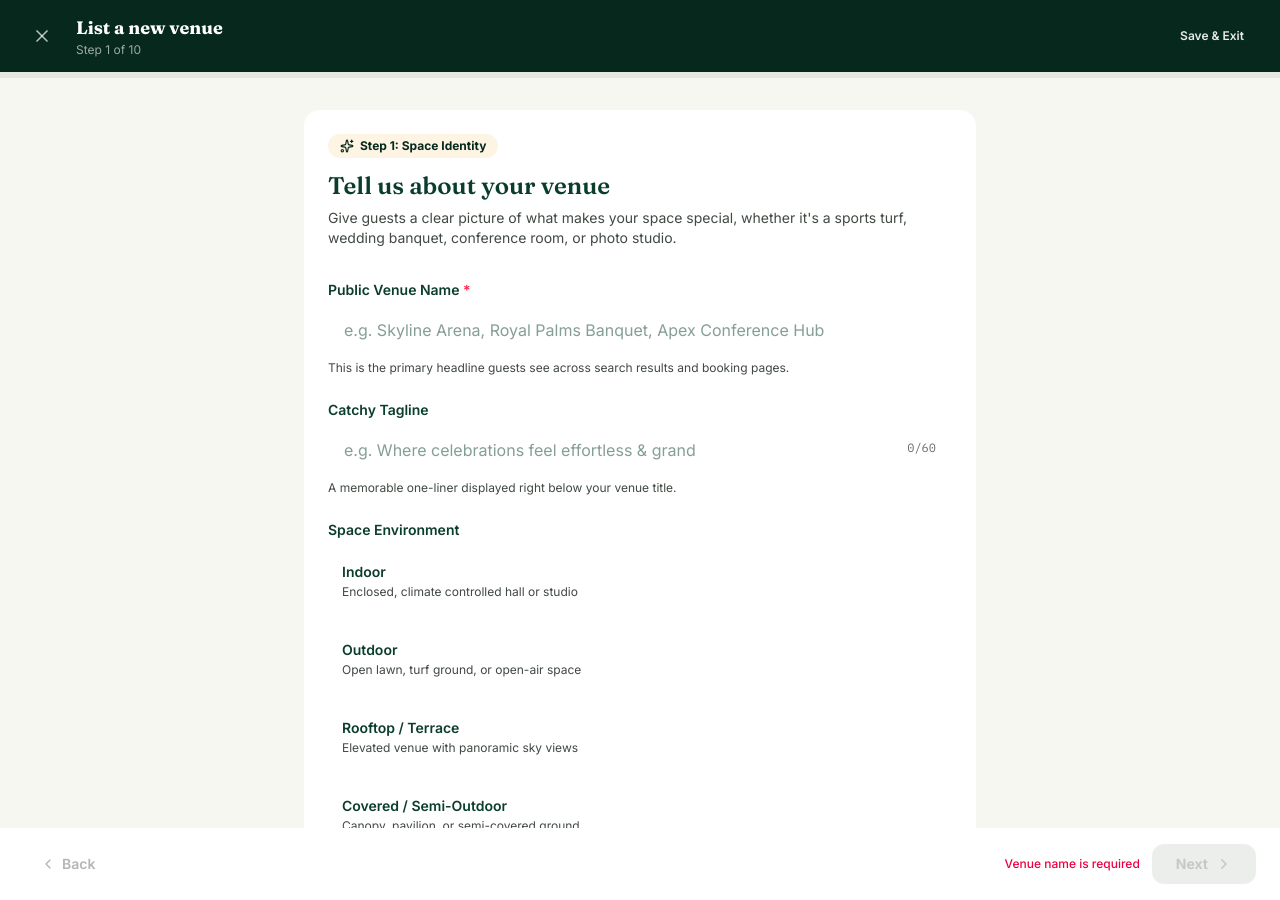
Test: ListingBuilder 3-photo rule and toast integration › shows real server ApiError message in a toast instead of window.alert on draft creation failure
fill required name
In the field with placeholder "Skyline Arena": point(640, 330) left=328, top=306, right=952, bottom=354, type "Test Arena"
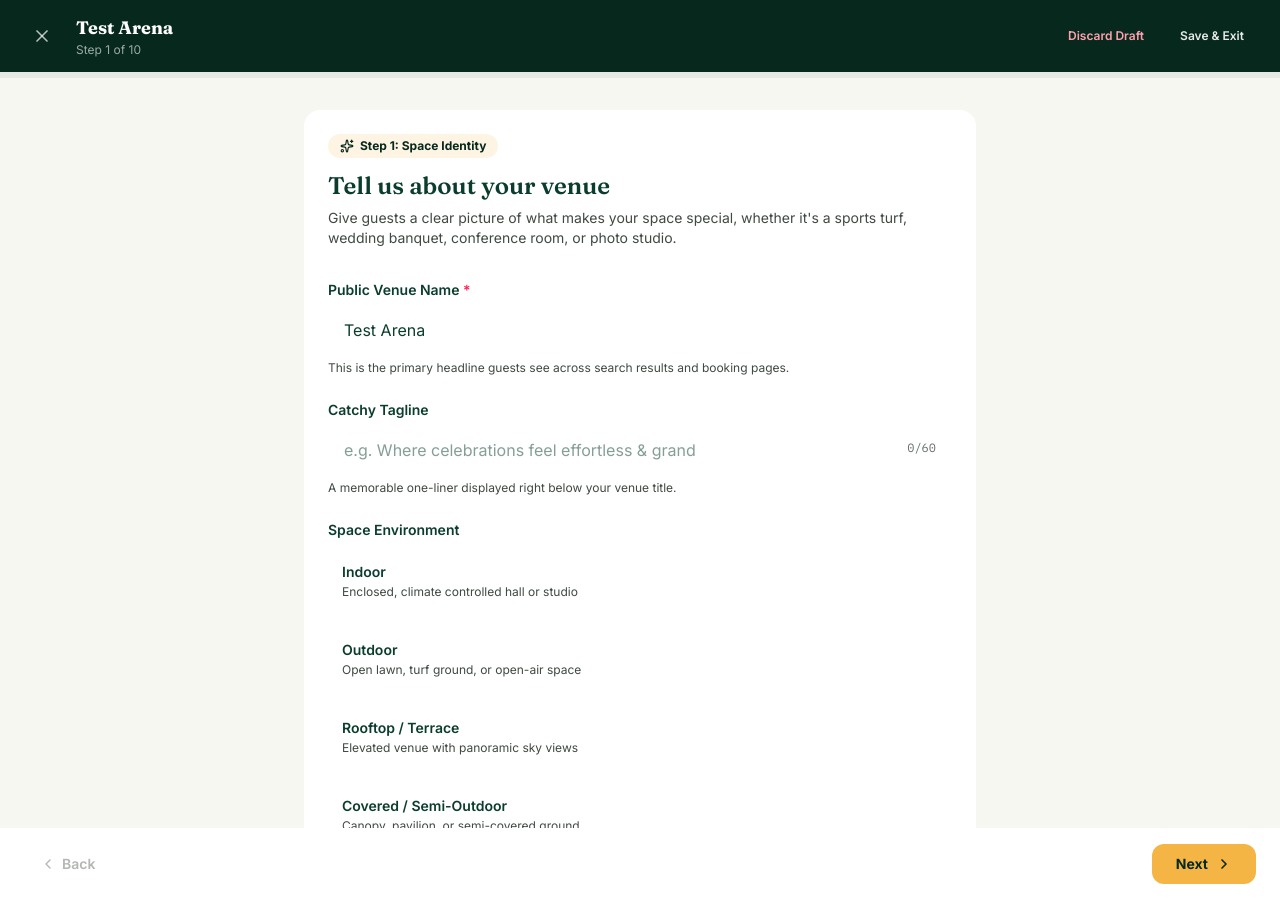
Click the button "Next": point(1204, 864) left=1152, top=844, right=1256, bottom=884
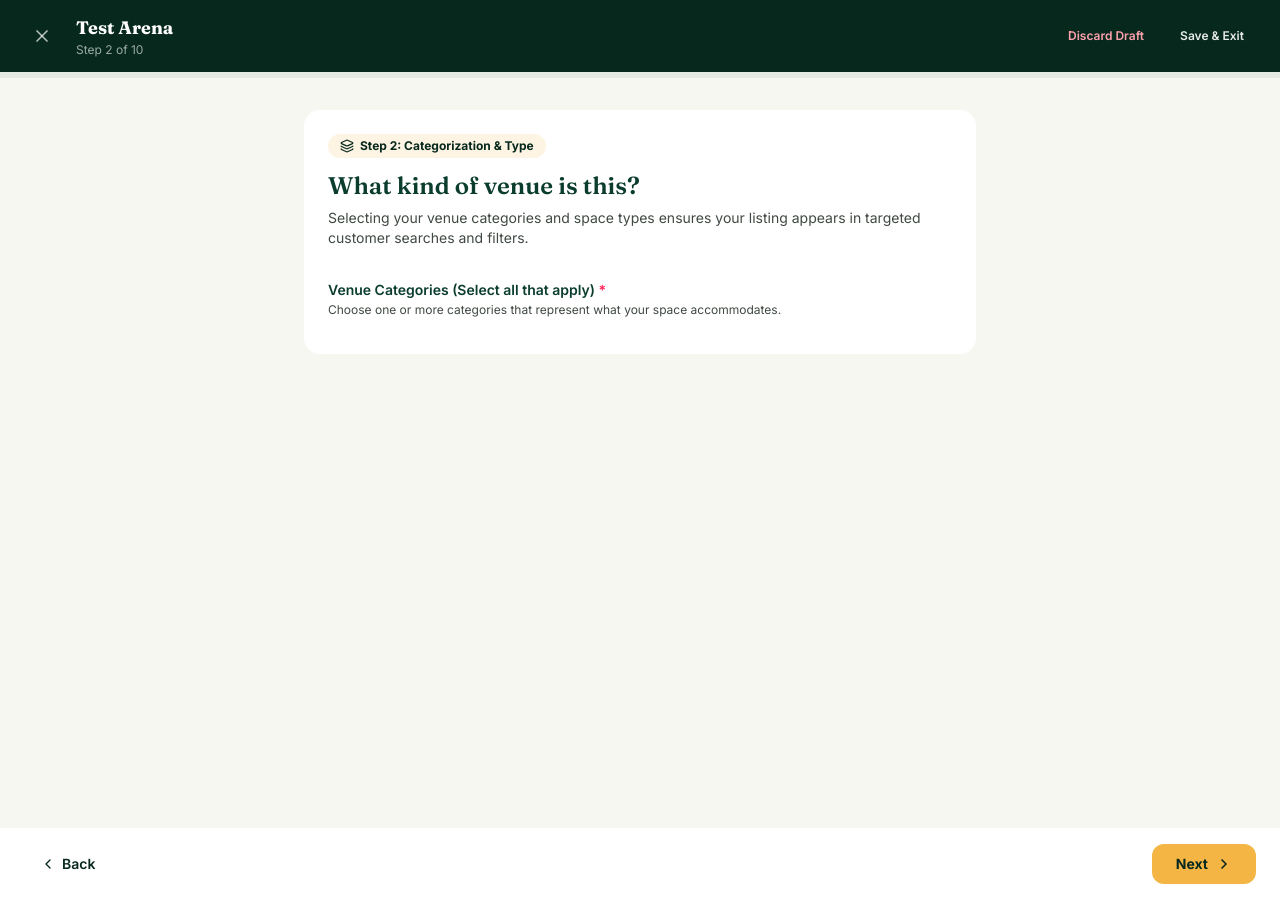
Check: the heading "What kind of venue is this?" is shown, box left=328, top=171, right=640, bottom=200
Click the button "Next": point(1204, 864) left=1152, top=844, right=1256, bottom=884
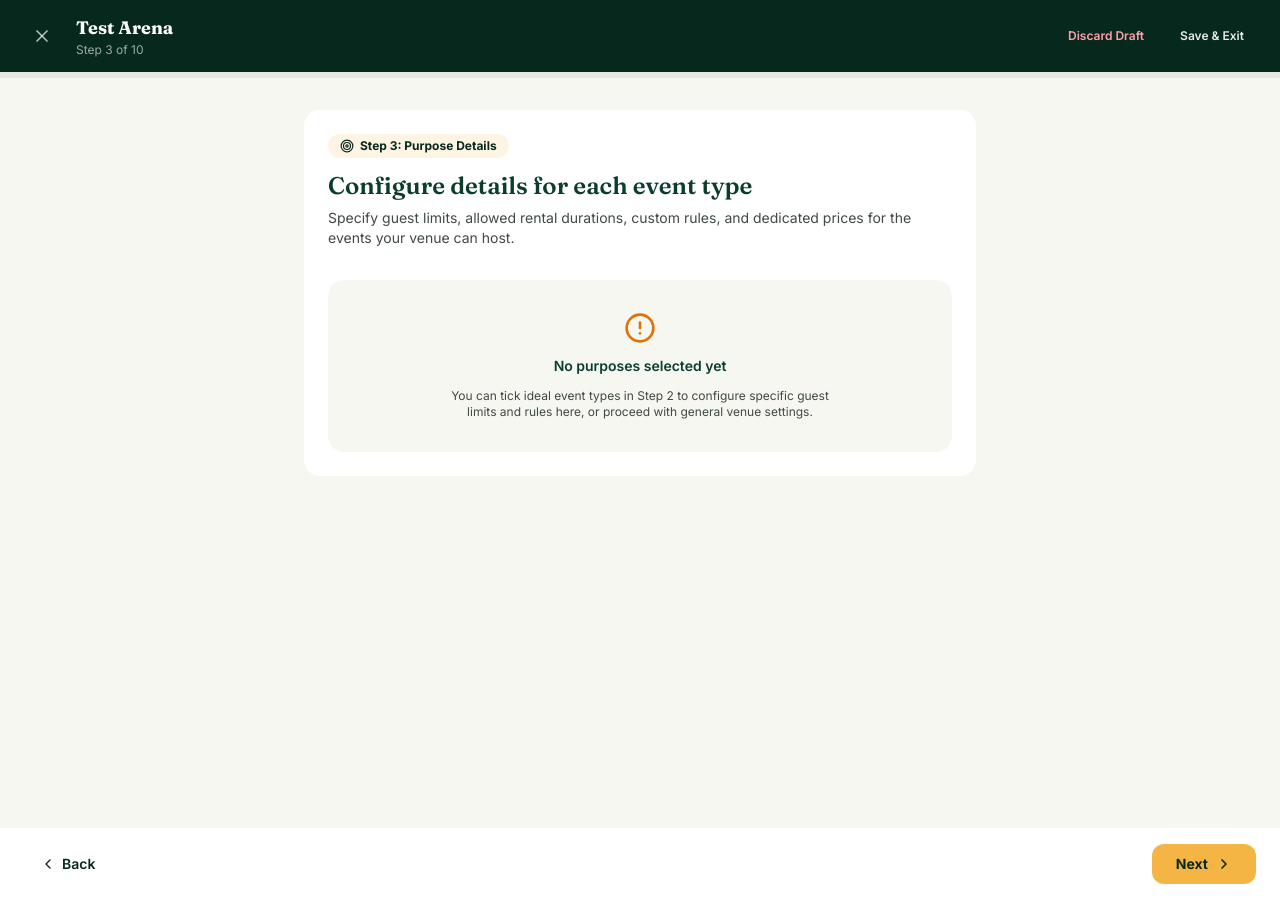
Check: the heading "Configure details for each event type" is shown, box left=328, top=171, right=752, bottom=200
Click the button "Next": point(1204, 864) left=1152, top=844, right=1256, bottom=884
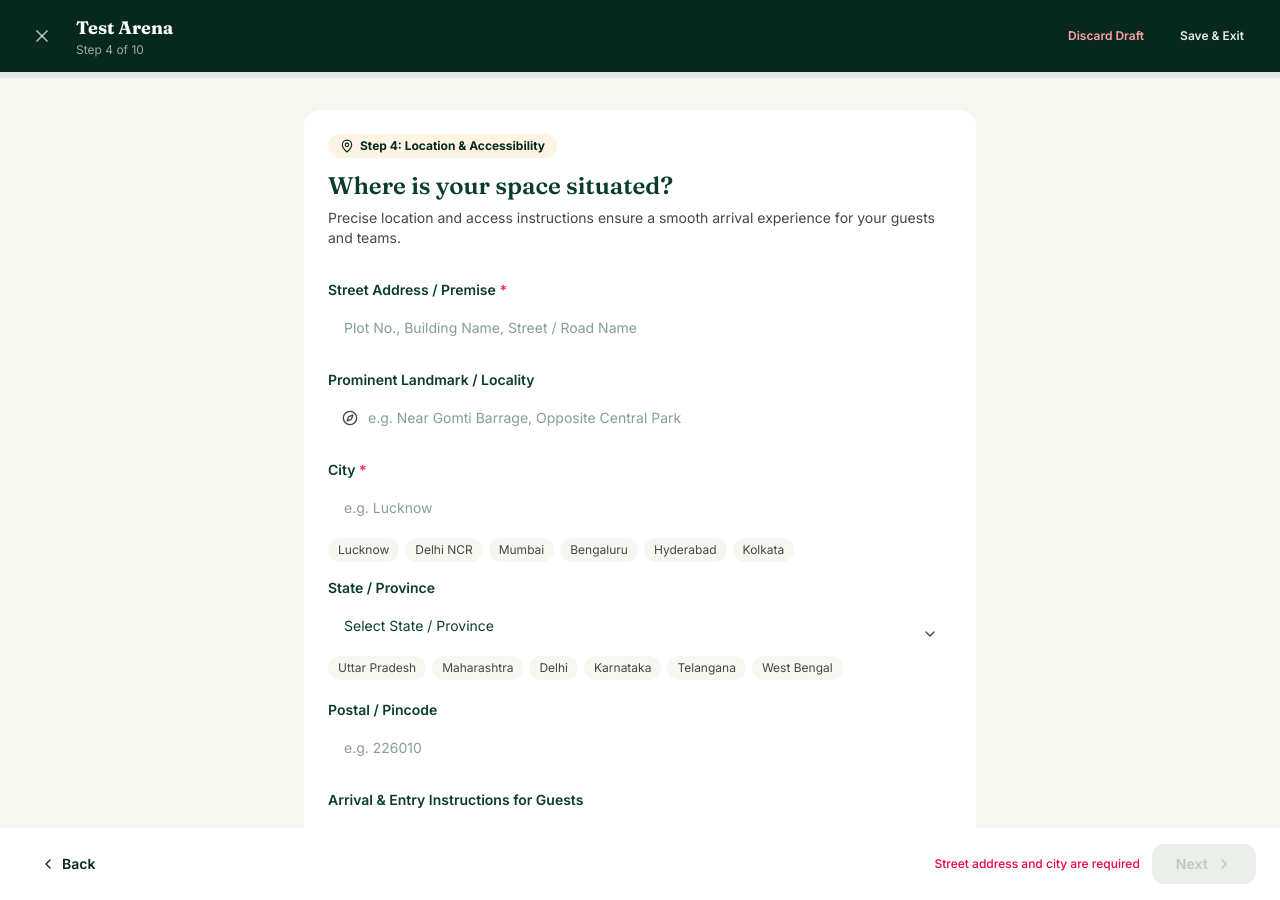
Check: the field with placeholder "Plot No., Building Name, Street / Road Name" is shown
In the field with placeholder "Plot No., Building Name, Street / Road Name": point(640, 328) left=328, top=306, right=952, bottom=350, type "123 Main St"
In the field with placeholder "e.g. Lucknow": point(640, 508) left=328, top=486, right=952, bottom=530, type "Unsupported City"
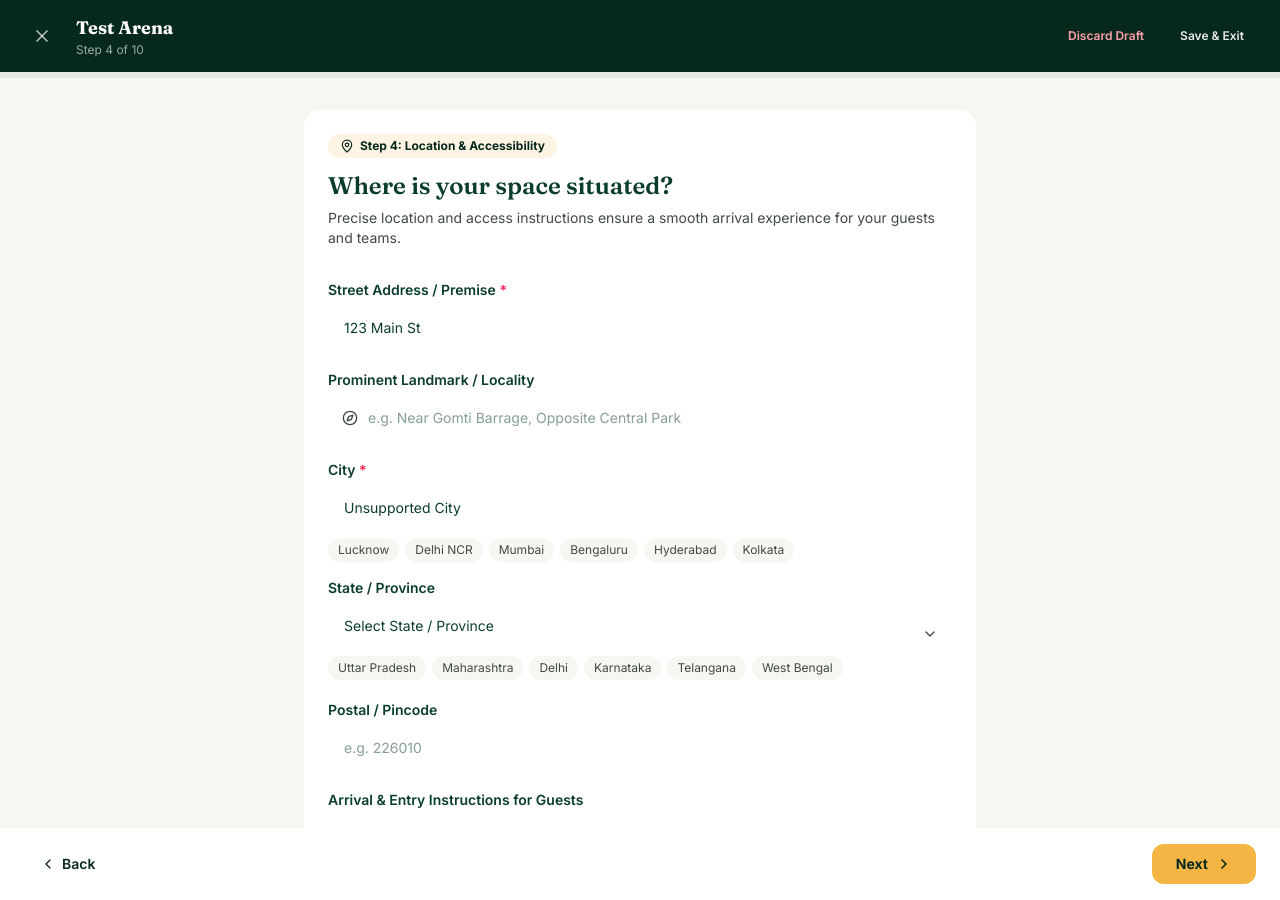
Click the button "Next": point(1204, 864) left=1152, top=844, right=1256, bottom=884
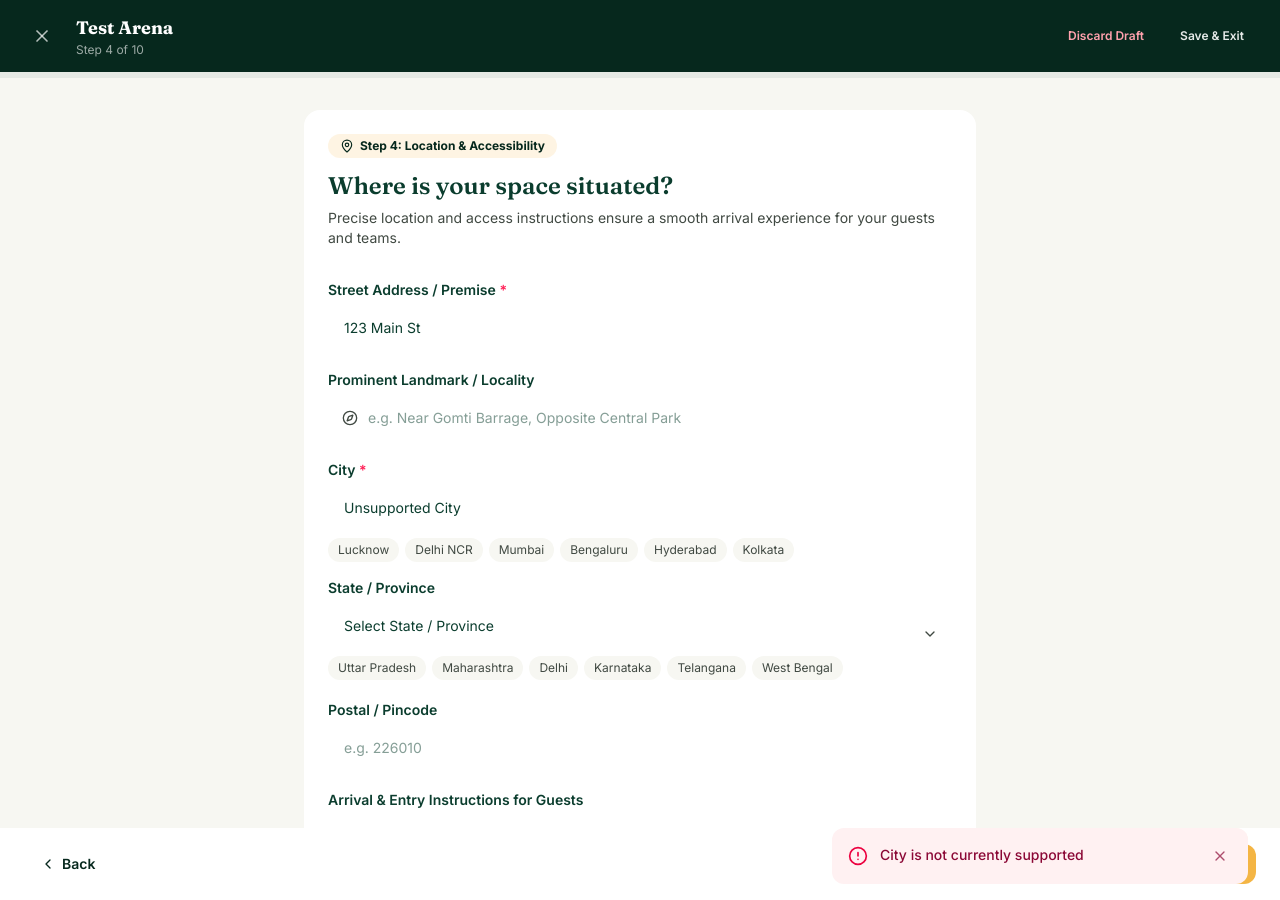
Check: the message reads "City is not currently supported", box left=880, top=846, right=1084, bottom=863
